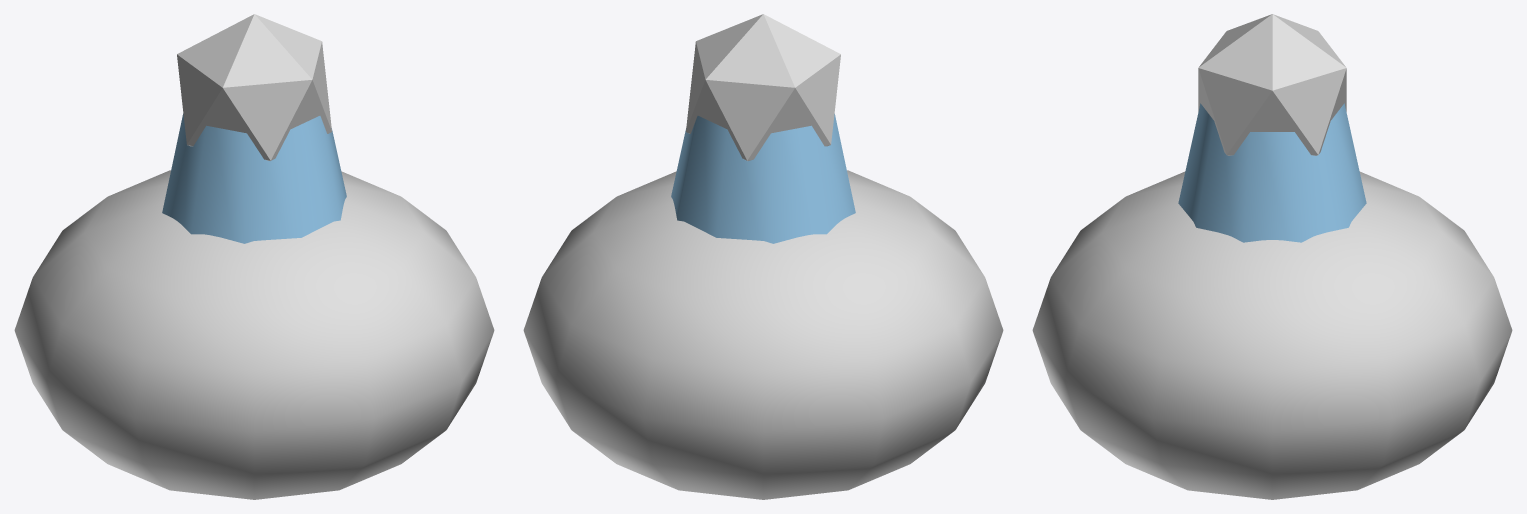
Rendered from foot_glass.glb.
3 views of the same model, side by side, from view 1: azimuth 30°, elevation 25°; view 2: azimuth 150°, elevation 25°; view 3: azimuth 270°, elevation 25° (orthographic).
Parts seen in each view (by area): view 1: FootGlass_body; view 2: FootGlass_body; view 3: FootGlass_body.
Part boxes in pixels (x1,y1,x2,y2): FootGlass_body: (14,14,494,499); FootGlass_body: (523,14,1003,499); FootGlass_body: (1032,14,1512,499).
Bounding box in the file's own units: 0.22 × 0.23 × 0.22.
